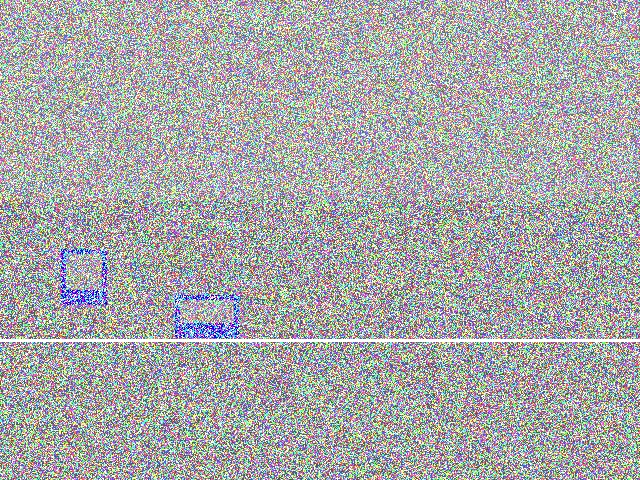motorcycle: (483, 265, 592, 317)
